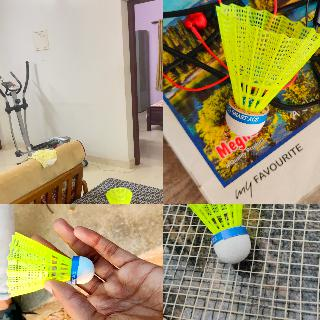shuttlecock: (214, 2, 319, 138), (5, 230, 96, 298), (166, 204, 251, 264), (105, 186, 132, 203)
